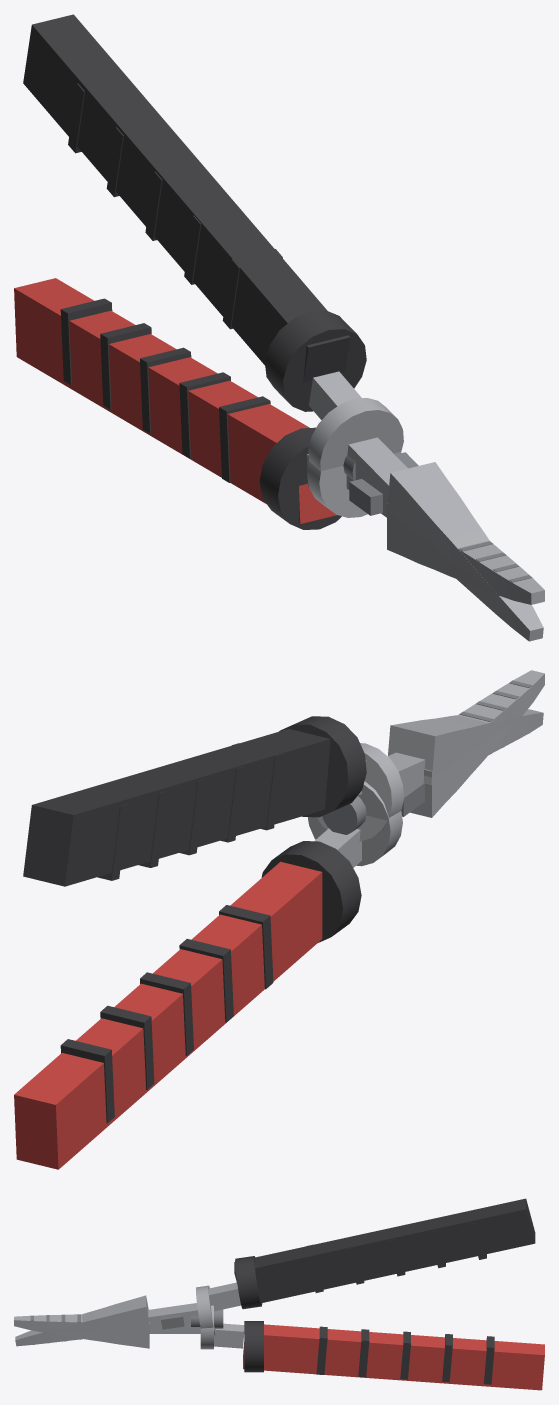
Rendered from needle_nose.glb.
3 renders of one model, top to bottom at view 1: azimuth 30°, elevation 25°; view 2: azimuth 150°, elevation 25°; view 3: azimuth 270°, elevation 25°, orthographic. The views are drawn at different scales.
Parts seen in each view (by area): view 1: plier_jaw_moving, plier_jaw_fixed; view 2: plier_jaw_fixed, plier_jaw_moving, plier_pivot; view 3: plier_jaw_moving, plier_jaw_fixed, plier_pivot.
Boxes of the visible parts, box(x1,y1,x2,y2) form: plier_jaw_moving: box(23, 14, 543, 641); plier_jaw_fixed: box(14, 278, 544, 604); plier_jaw_fixed: box(14, 670, 544, 1169); plier_jaw_moving: box(23, 709, 543, 886); plier_pivot: box(322, 796, 366, 834); plier_jaw_moving: box(15, 1198, 535, 1346); plier_jaw_fixed: box(14, 1305, 544, 1390); plier_pivot: box(191, 1309, 223, 1328).
Bounding box in the file's own units: 0.0195 × 0.0766 × 0.2034.
